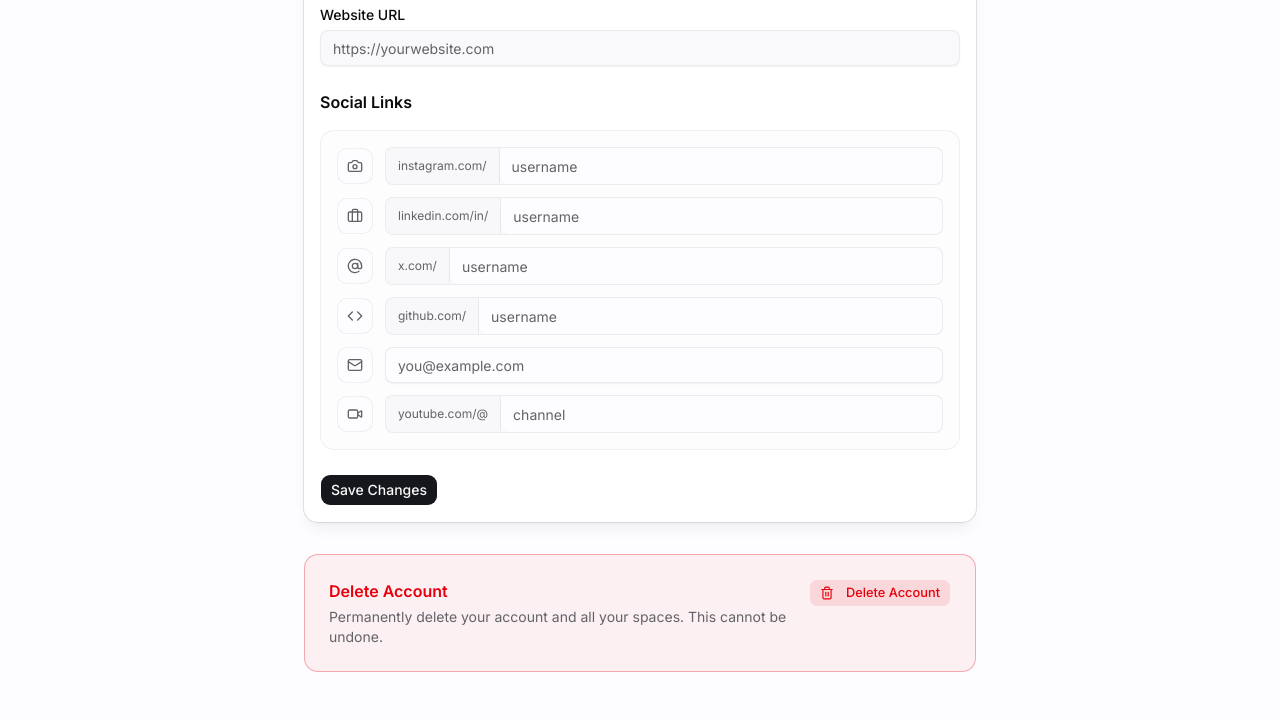
Test: Delete Account — danger zone › confirmation dialog › closes the dialog when Cancel is clicked
The width and height of the screenshot is (1280, 720).
(page scrolled)
expect the text "cannot be undone" is shown: met, box top-left (329, 608), bottom-right (786, 645)
Click the button "Delete Account" at (880, 593), box top-left (809, 579), bottom-right (951, 607)
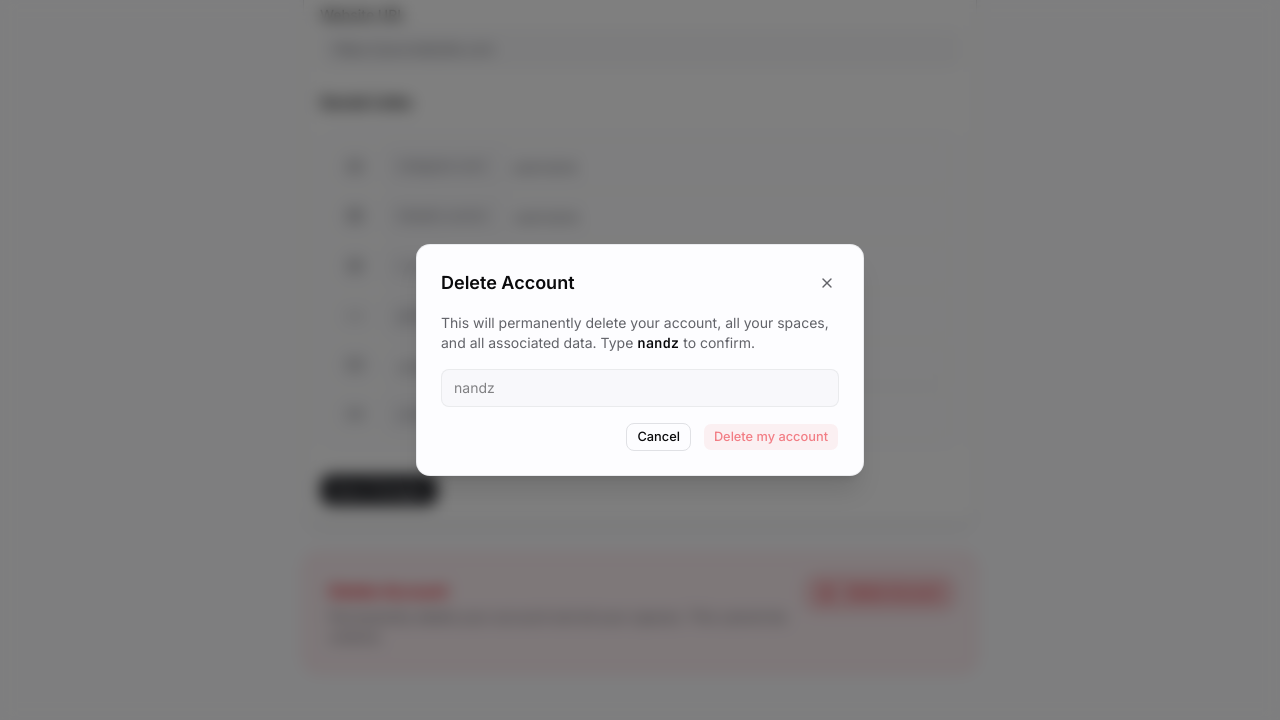
Click the button "Cancel" at (659, 437), box top-left (626, 423), bottom-right (691, 451)
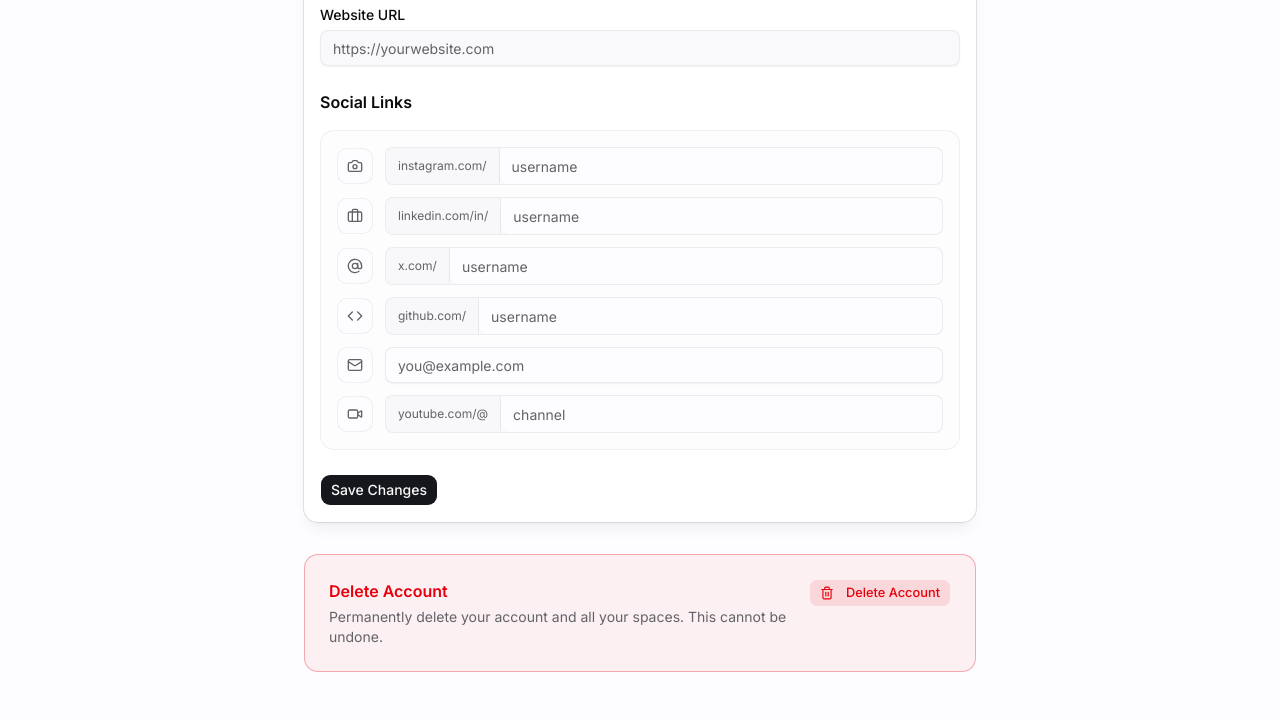
expect the text with placeholder "nandz" is gone: met
